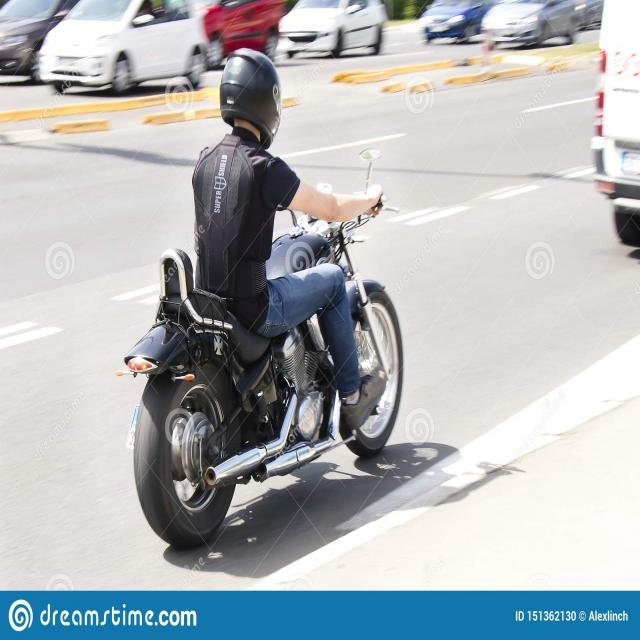With Helmet: (119, 39, 410, 563)
